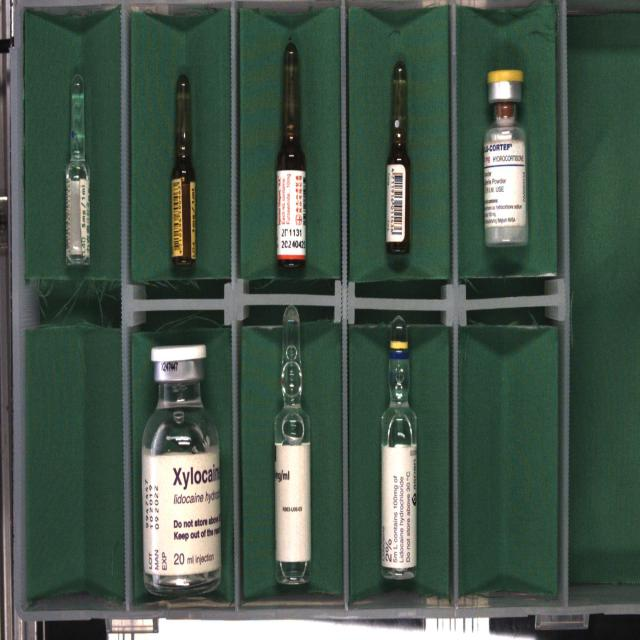Vials: (142, 345, 221, 596), (483, 69, 528, 247)
